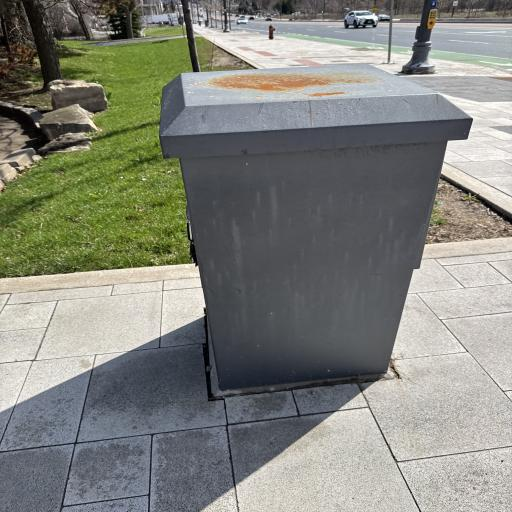Electrical Box: (157, 64, 473, 390)
